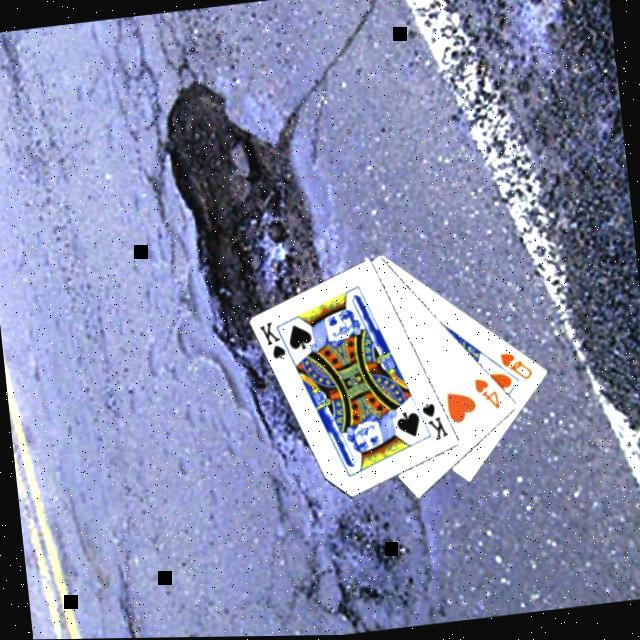4H: (468, 376, 502, 417)
KS: (254, 319, 294, 367), (416, 400, 450, 448)
QH: (495, 349, 534, 388)
